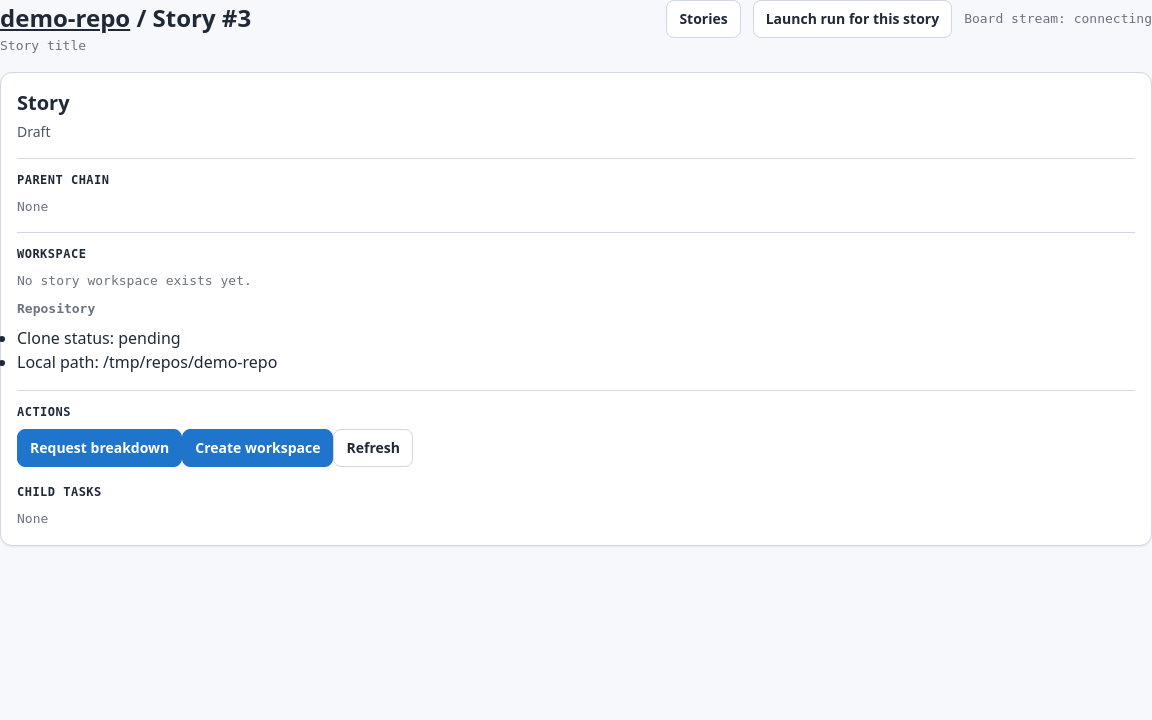
Test: StoryDetailPageContent › creates a workspace, refreshes story detail, and shows a success notice
Click the button "Create workspace".
click(258, 448)  # box left=182, top=429, right=334, bottom=467
(page scrolled)
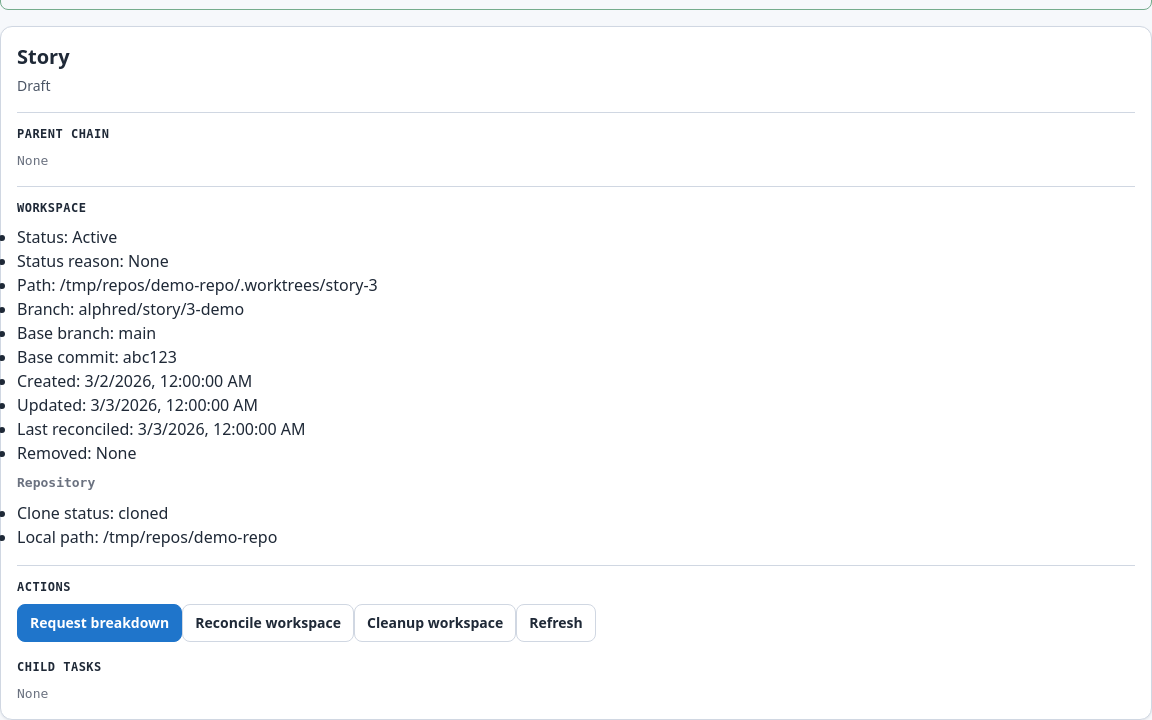
Result: the list item "Clone status: cloned" is shown at left=17, top=502, right=168, bottom=524
Result: the button "Reconcile workspace" is shown at left=182, top=604, right=354, bottom=642
Result: the button "Cleanup workspace" is shown at left=354, top=604, right=516, bottom=642
